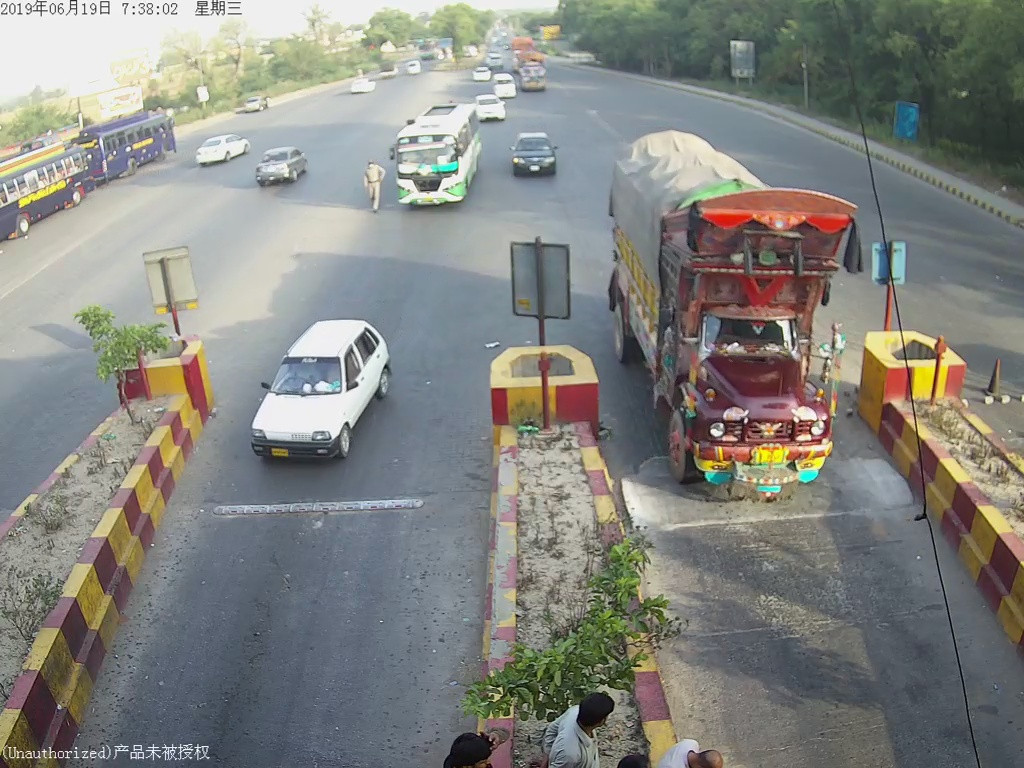Cat-1: (250, 312, 396, 470), (507, 127, 566, 186)
Cat-3: (397, 97, 480, 211)
Cat-4: (608, 129, 861, 498)
